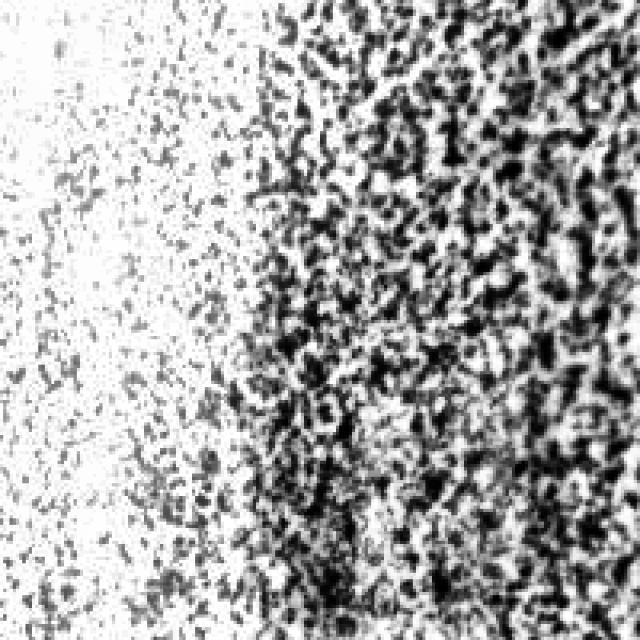Rolled_in_Scale: (246, 0, 637, 637), (35, 9, 234, 634)
